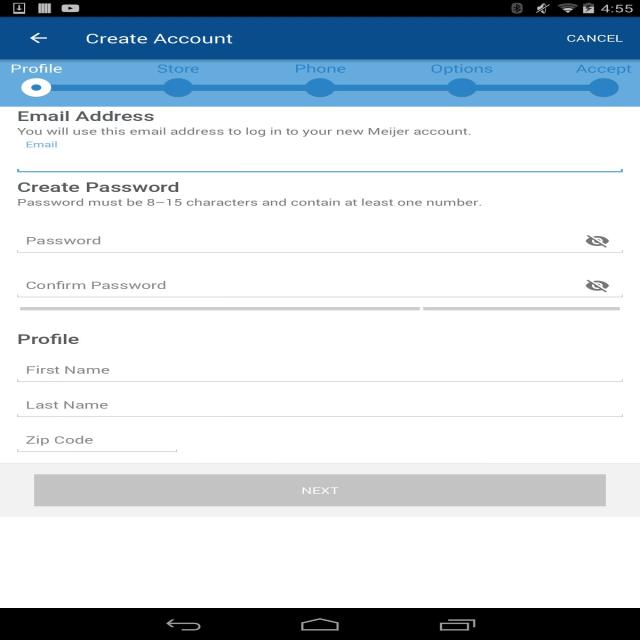button: (34, 474, 608, 507), (557, 27, 640, 49), (574, 231, 617, 249), (578, 276, 614, 292), (28, 29, 54, 48)
field: (13, 137, 624, 173), (14, 264, 629, 298), (13, 220, 629, 252), (14, 389, 631, 418), (14, 357, 628, 384), (14, 423, 180, 454)
heading: (82, 31, 242, 50), (17, 180, 183, 194), (15, 109, 156, 124), (15, 331, 86, 346)
image: (16, 76, 638, 100)
label: (24, 276, 168, 292), (23, 233, 104, 247), (25, 364, 115, 376), (23, 400, 108, 412), (26, 435, 97, 447), (16, 140, 68, 150)
text: (17, 197, 484, 209), (14, 127, 473, 138), (424, 62, 496, 78), (289, 61, 349, 78), (570, 64, 638, 76), (150, 62, 208, 76), (8, 62, 64, 76)
